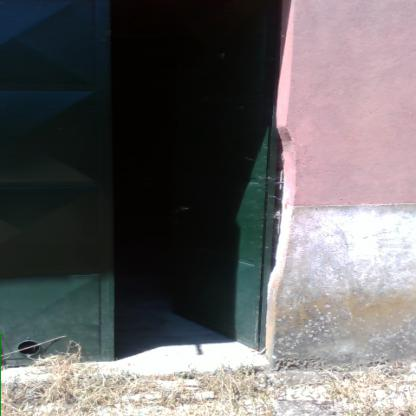open: (0, 5, 297, 373)
